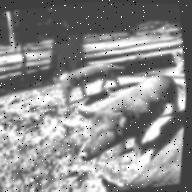boar: (67, 69, 188, 166)
